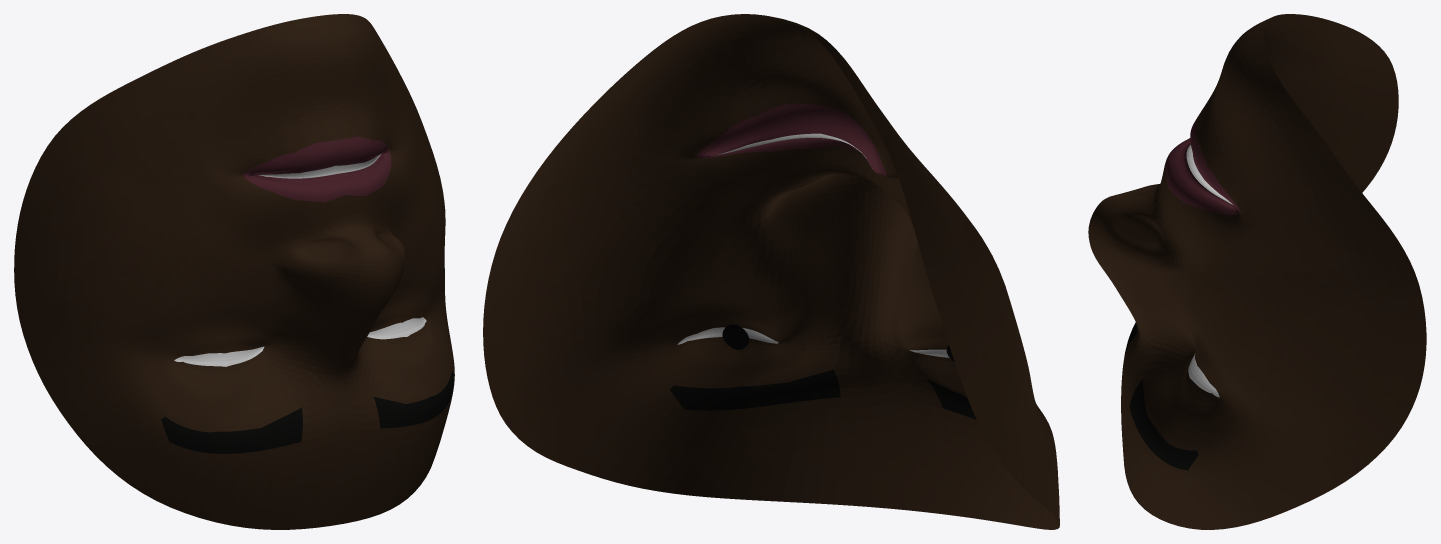
Rendered from frame_00227.obj.
3 views of the same model, side by side, from view 1: azimuth 30°, elevation 25°; view 2: azimuth 150°, elevation 25°; view 3: azimuth 270°, elevation 25° (orthographic). The views are drawn at different scales.
Visible parts, largest first — view 1: face_mesh_subdivided; view 2: face_mesh_subdivided; view 3: face_mesh_subdivided.
Boxes of the visible parts, x1=… form: face_mesh_subdivided: x1=14, y1=14, x2=454, y2=529; face_mesh_subdivided: x1=483, y1=14, x2=1059, y2=529; face_mesh_subdivided: x1=1088, y1=14, x2=1426, y2=529.
Bounding box in the file's own units: 0.5169 × 0.558 × 0.3722.
